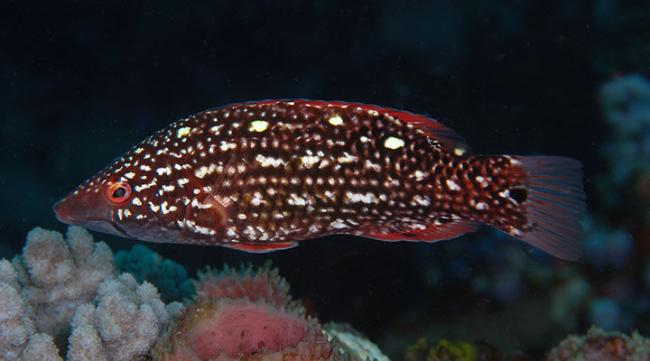fish: (56, 99, 584, 262)
